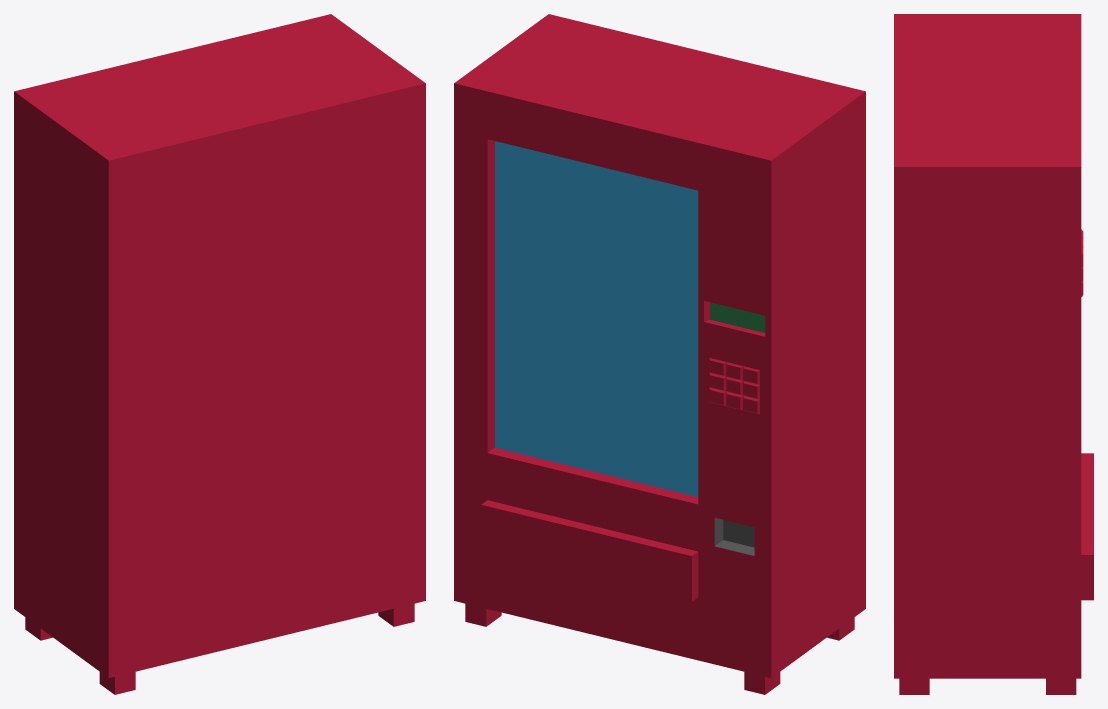
File: CanDispenser_000.glb
The picture shows the model from 3 angles, left to right: view 1: azimuth 30°, elevation 25°; view 2: azimuth 150°, elevation 25°; view 3: azimuth 270°, elevation 25°; orthographic projection.
Visible parts, largest first — view 1: CanDispenser; view 2: CanDispenser; view 3: CanDispenser.
Part boxes in pixels (left/top/right/bottom): CanDispenser: left=14, top=14, right=425, bottom=694; CanDispenser: left=454, top=14, right=865, bottom=694; CanDispenser: left=894, top=14, right=1093, bottom=694.
Bounding box in the file's own units: 1.41 × 2.29 × 0.7778.
